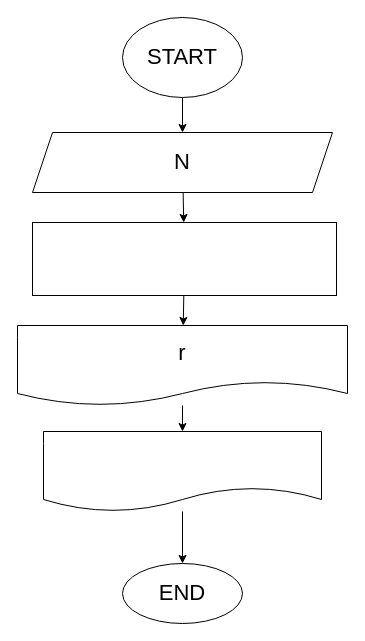
The diagram is 365 pixels wide and 641 high, and some of its shapes have lost their labels. Each missing label, with the box of its shape:
math.pow(r,2): (42, 430, 322, 512)
r r = random(1,N): (32, 222, 336, 296)
